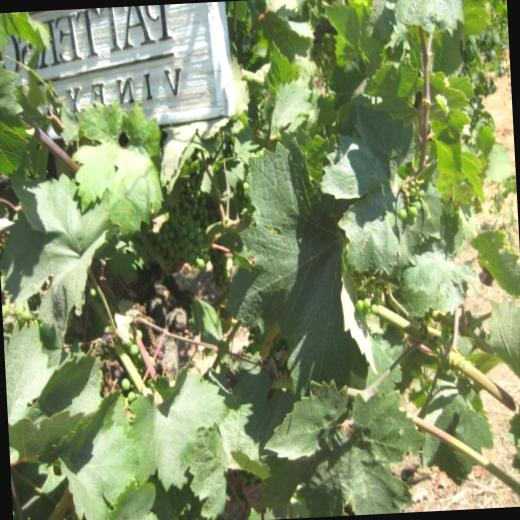Orange: (149, 170, 232, 290), (235, 180, 254, 215), (120, 377, 132, 390), (398, 209, 407, 221), (370, 304, 378, 314), (357, 299, 364, 310), (128, 391, 135, 402), (410, 213, 416, 225), (149, 356, 156, 366), (130, 346, 138, 354), (410, 207, 418, 214), (136, 328, 142, 337), (366, 298, 370, 306)
